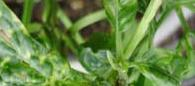Tomato leaf mosaic virus: (0, 0, 82, 86), (129, 43, 189, 86), (102, 0, 147, 32)
